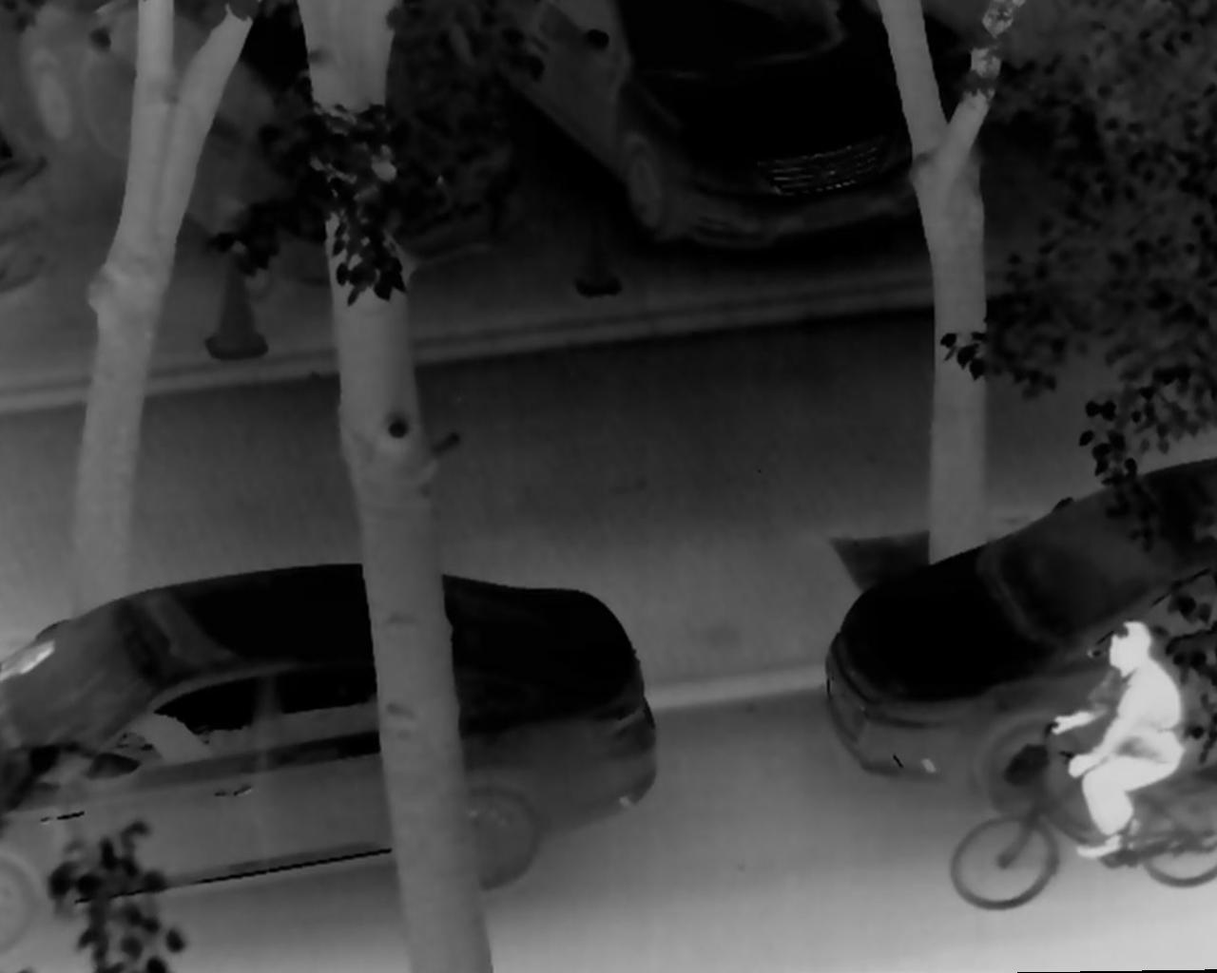person: (1035, 608, 1184, 868)
